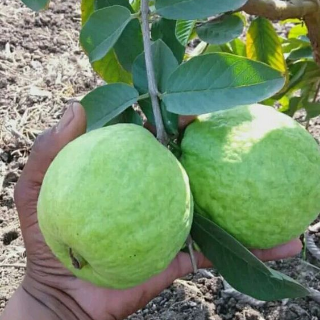oi: (36, 123, 194, 289), (183, 104, 320, 250)
